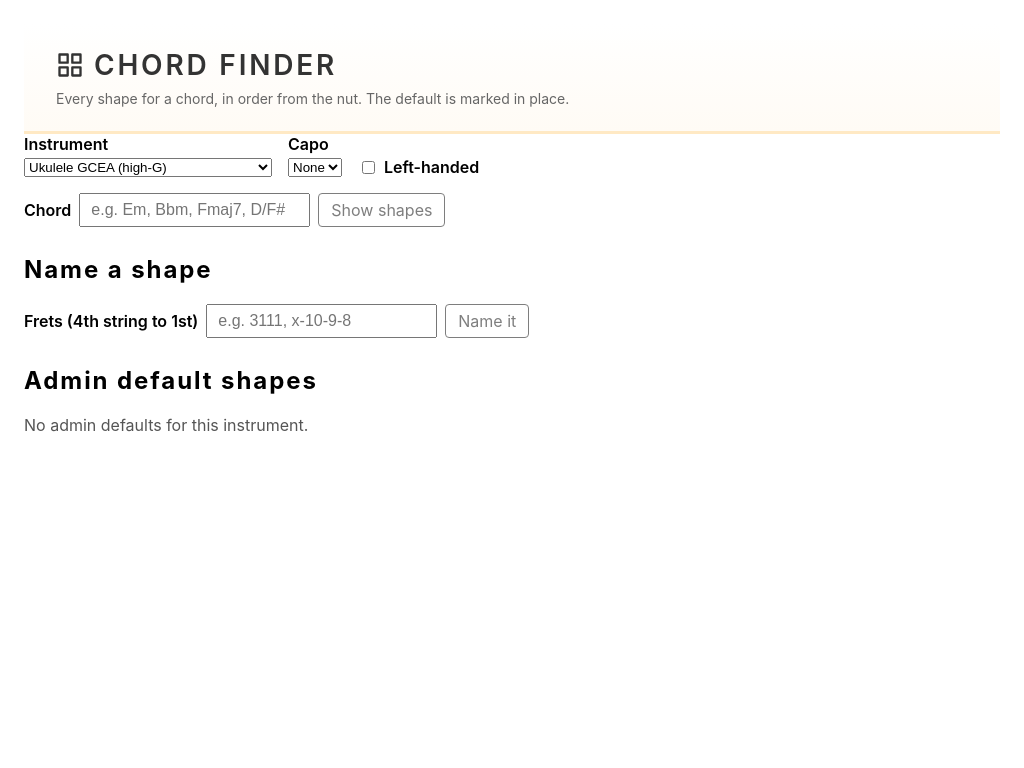
Test: ChordFinder › shows every shape in the order the engine gives, with the admin default marked in place
The width and height of the screenshot is (1024, 768).
Type "Em" into the field labelled "Chord" at (195, 210), box [79, 193, 310, 227]
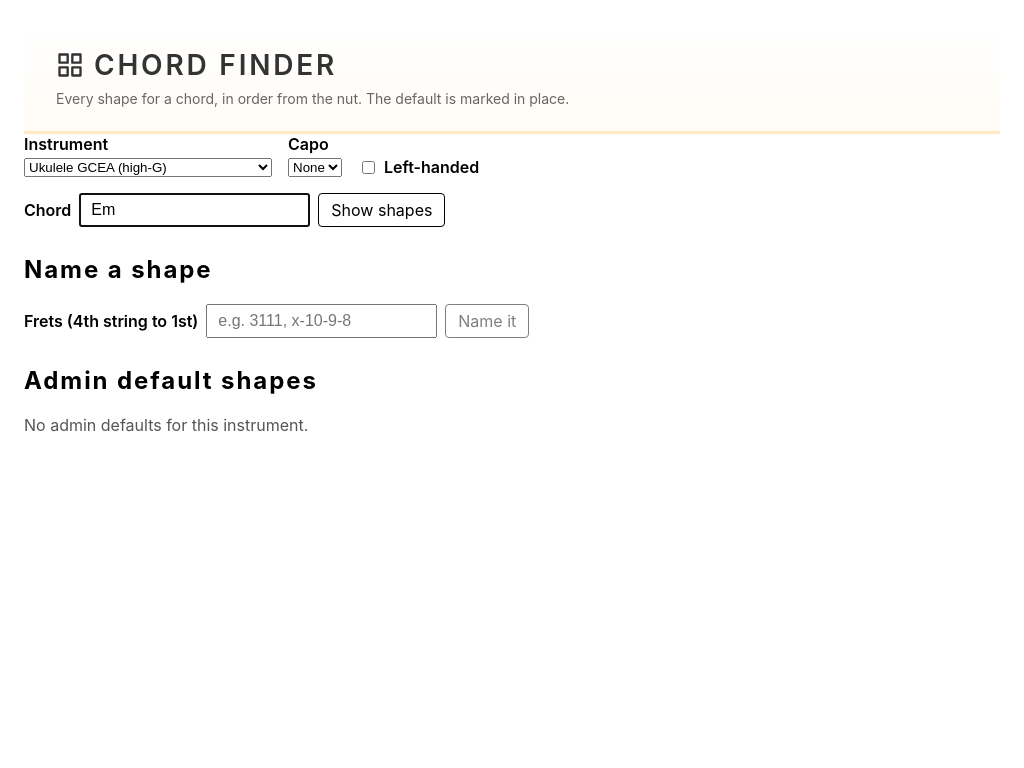
Click the button "Show shapes" at (382, 210), box [318, 193, 445, 227]
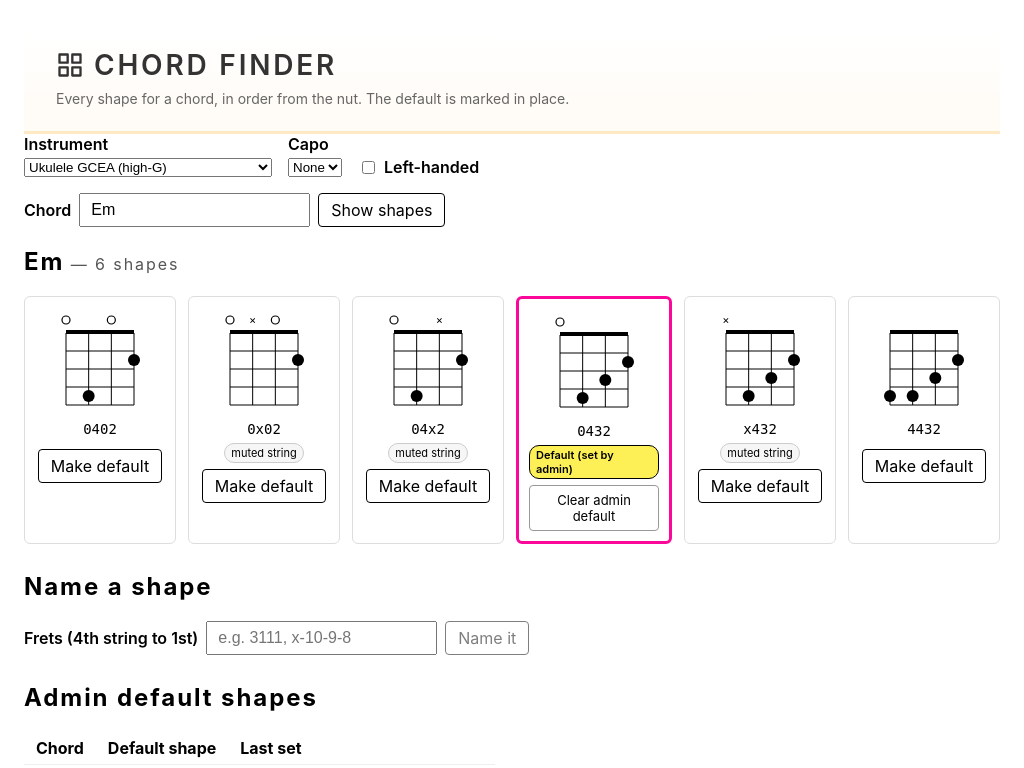
Check: the text "Default (set by admin)" is shown, box [529, 445, 659, 479]
Check: the button "Clear admin default" is shown, box [529, 485, 659, 531]
